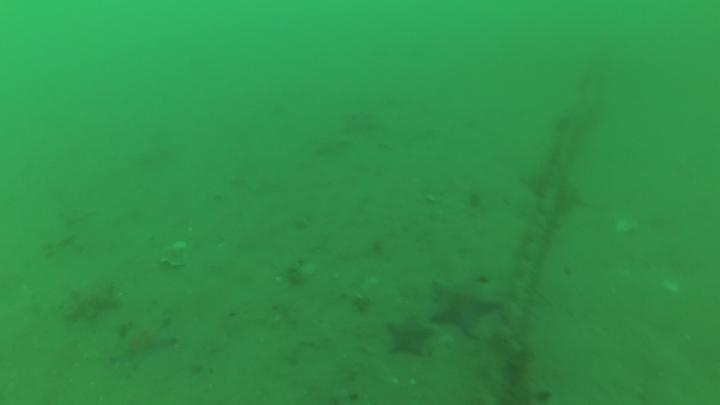starfish: (430, 274, 503, 343), (107, 322, 177, 373), (66, 283, 121, 324), (384, 316, 433, 356)
